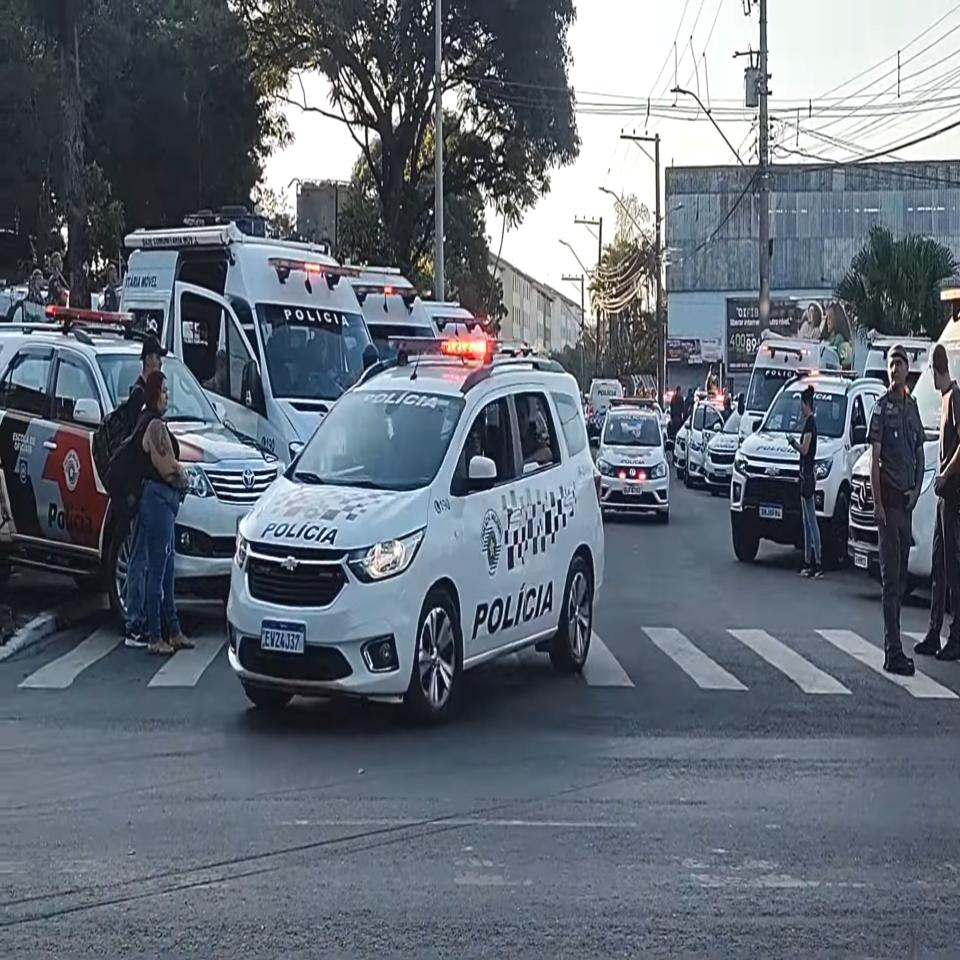viatura: (228, 330, 604, 733), (592, 392, 676, 529)
